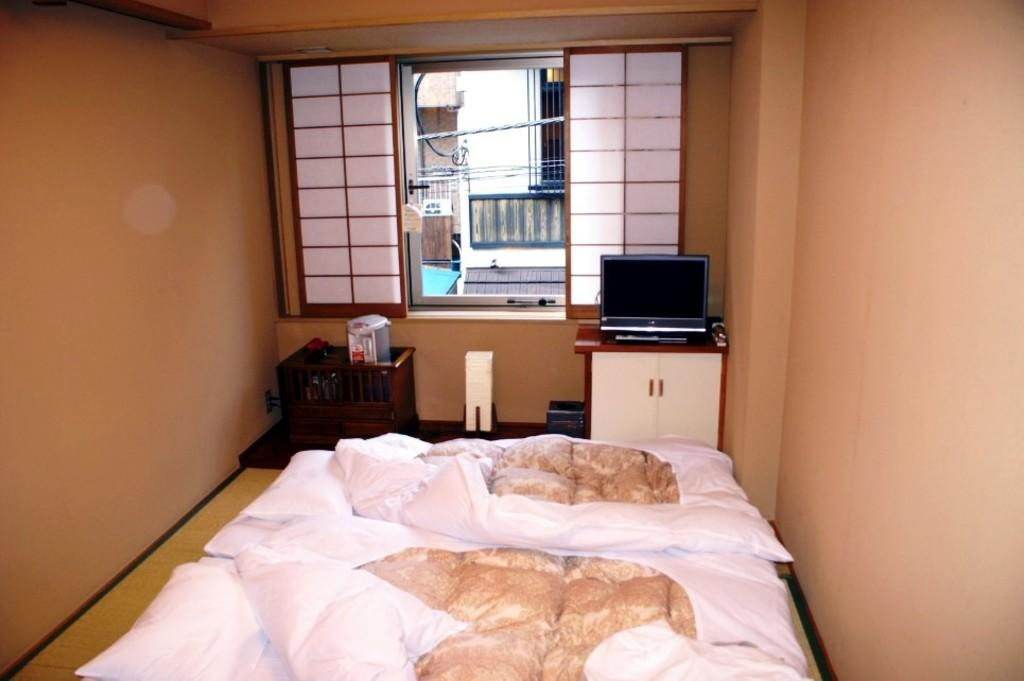Computer-monitor: (597, 256, 716, 355)
